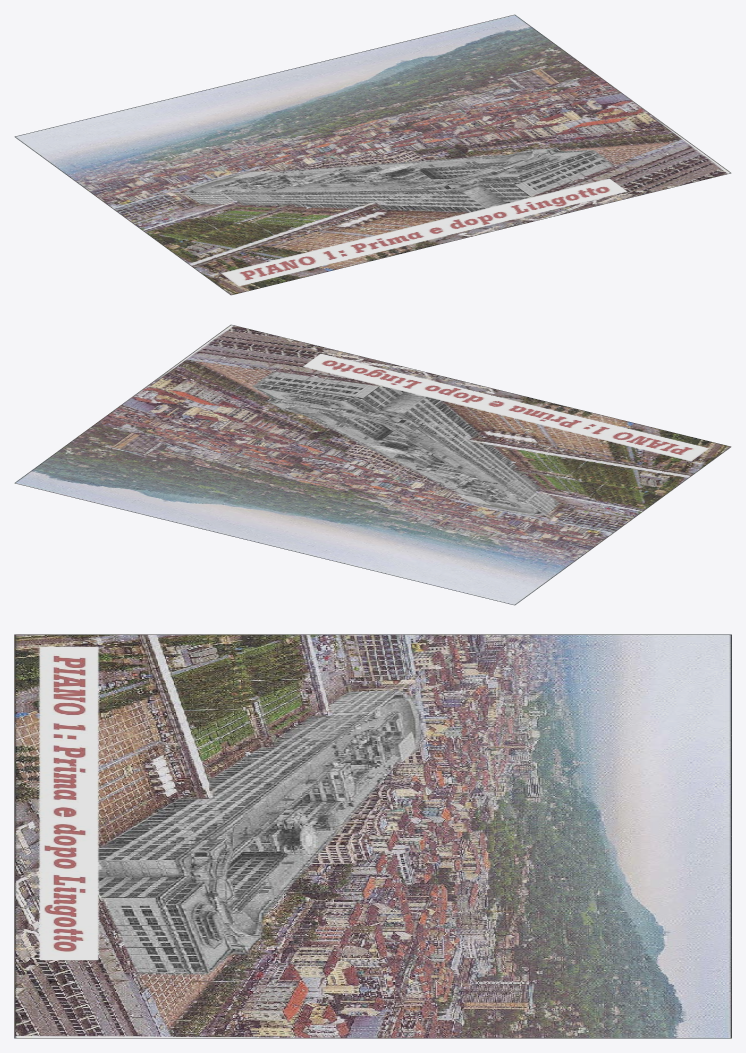
File: FOTO1.obj
3 views of the same model, one above another, from view 1: azimuth 30°, elevation 25°; view 2: azimuth 150°, elevation 25°; view 3: azimuth 270°, elevation 25° (orthographic). The views are drawn at different scales.
Visible parts, largest first — view 1: Plane001; view 2: Plane001; view 3: Plane001.
Part boxes in pixels (bbox=[...]): Plane001: bbox=[14, 14, 731, 295]; Plane001: bbox=[14, 324, 731, 605]; Plane001: bbox=[14, 634, 731, 1038].
Size of the model in its own units: 8.44 by 0 by 6.33.
